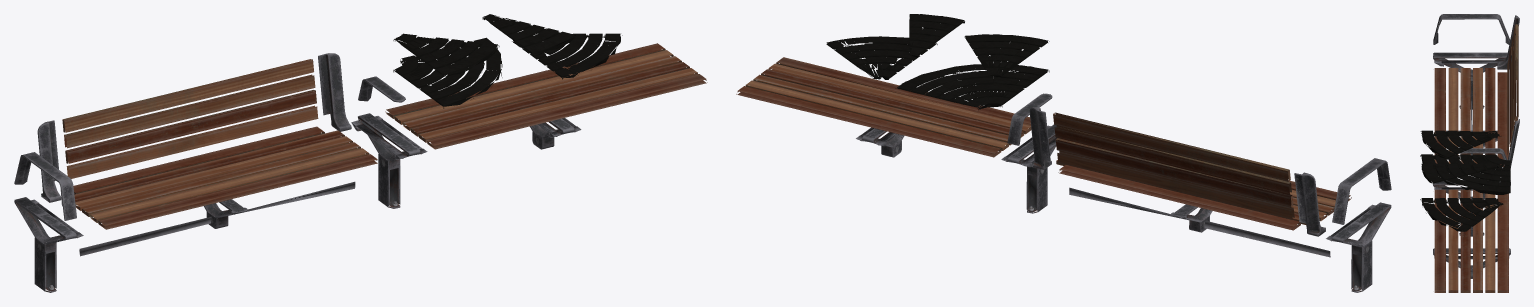
Rendered from modular_street_seating.glb.
The picture shows the model from 3 angles, left to right: view 1: azimuth 30°, elevation 25°; view 2: azimuth 150°, elevation 25°; view 3: azimuth 270°, elevation 25°; orthographic projection. The views are drawn at different scales.
Visible parts, largest first — view 1: seat_back, seat, seat_bench, connector_90, legs_double, legs_single, connector_45, connector_60, connector_30, back_support_l, crossbar, arm_rest_01 (+4 smaller); view 2: seat_bench, seat_back, connector_90, seat, connector_60, legs_single, connector_45, legs_double, crossbar, connector_30, arm_rest_01, back_support_r (+4 smaller); view 3: seat_bench, seat, connector_90, connector_60, connector_45, seat_back, legs_single, connector_30, arm_rest_01, legs_double, back_support_r, suspended_support_02 (+2 smaller).
Boxes of the visible parts, left/top/right/bottom form: seat_back: left=62, top=59, right=318, bottom=178; seat: left=73, top=126, right=378, bottom=229; seat_bench: left=385, top=43, right=707, bottom=149; connector_90: left=393, top=37, right=502, bottom=108; legs_double: left=351, top=113, right=427, bottom=208; legs_single: left=14, top=197, right=83, bottom=292; connector_45: left=393, top=33, right=499, bottom=76; connector_60: left=512, top=33, right=622, bottom=79; connector_30: left=482, top=14, right=575, bottom=55; back_support_l: left=318, top=53, right=351, bottom=131; crossbar: left=79, top=181, right=355, bottom=256; arm_rest_01: left=14, top=152, right=76, bottom=220; seat_bench: left=736, top=57, right=1031, bottom=157; seat_back: left=1053, top=112, right=1294, bottom=219; connector_90: left=895, top=64, right=1049, bottom=110; seat: left=1056, top=160, right=1351, bottom=230; connector_60: left=826, top=36, right=937, bottom=79; legs_single: left=1326, top=202, right=1391, bottom=292; connector_45: left=964, top=34, right=1049, bottom=77; legs_double: left=1001, top=124, right=1057, bottom=213; crossbar: left=1069, top=187, right=1330, bottom=257; connector_30: left=908, top=14, right=964, bottom=57; arm_rest_01: left=1332, top=158, right=1391, bottom=224; back_support_r: left=1294, top=172, right=1325, bottom=236; seat_bench: left=1434, top=189, right=1508, bottom=292; seat: left=1434, top=68, right=1508, bottom=166; connector_90: left=1420, top=154, right=1510, bottom=194; connector_60: left=1420, top=198, right=1503, bottom=231; connector_45: left=1420, top=130, right=1501, bottom=158; seat_back: left=1507, top=24, right=1518, bottom=155; legs_single: left=1433, top=52, right=1507, bottom=109; connector_30: left=1421, top=163, right=1498, bottom=183; arm_rest_01: left=1433, top=14, right=1509, bottom=44; legs_double: left=1433, top=180, right=1510, bottom=236; back_support_r: left=1497, top=15, right=1519, bottom=69; suspended_support_02: left=1433, top=248, right=1510, bottom=278.
Size of the model in its own units: 3.84 by 0.8438 by 0.6815.
5 materials, 5 textured.
